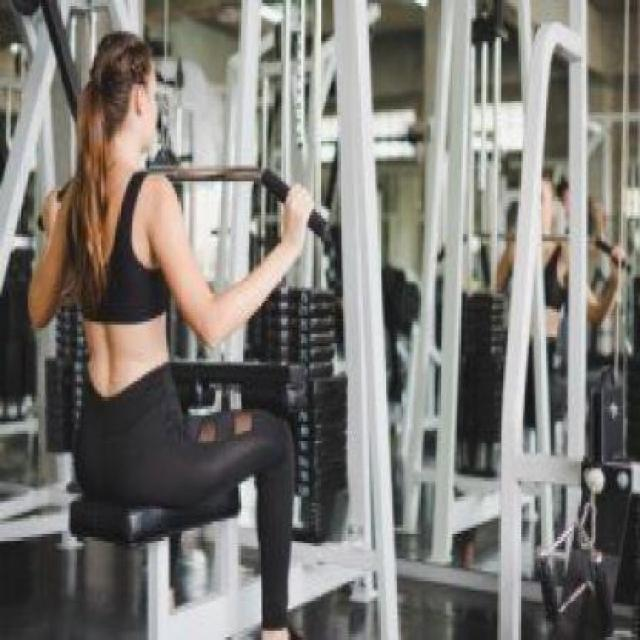Lat Pull Down: (15, 0, 392, 640)
